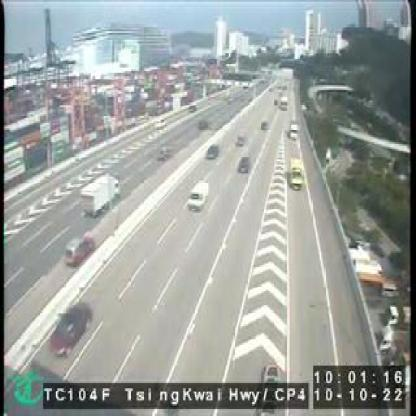Car: (48, 302, 92, 359), (63, 233, 95, 267), (188, 180, 212, 212), (158, 145, 173, 161), (289, 122, 301, 140), (240, 154, 251, 173), (207, 146, 221, 160), (237, 130, 247, 145), (260, 118, 269, 128)
Truck: (82, 174, 121, 219), (290, 157, 304, 189)
